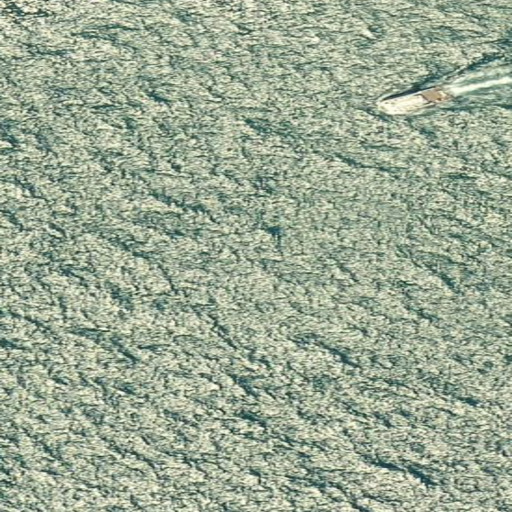ship: (374, 86, 454, 117)
